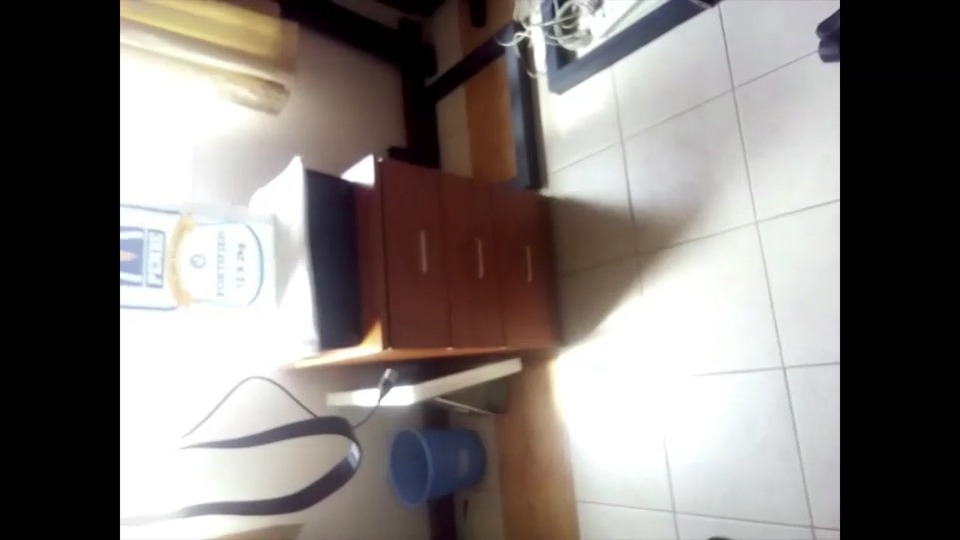wheat_flour_blue_label: (122, 196, 275, 320)
